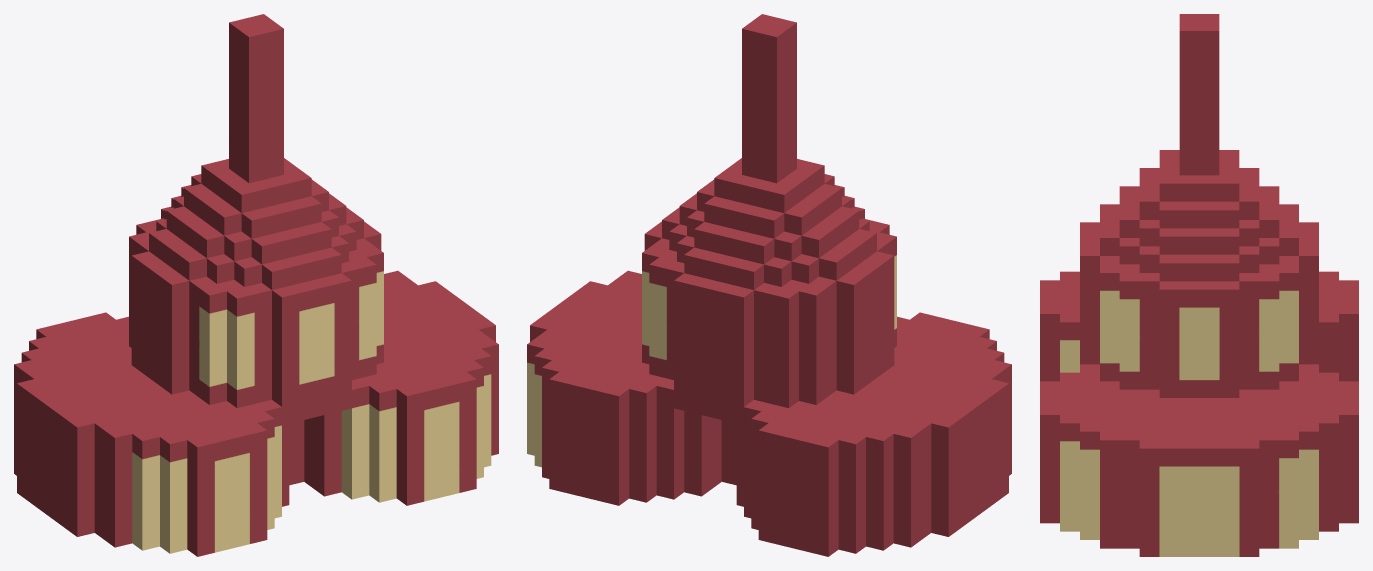
File: sixthModelRoof.fbx
3 renders of one model, left to right at view 1: azimuth 30°, elevation 25°; view 2: azimuth 150°, elevation 25°; view 3: azimuth 270°, elevation 25°, orthographic.
Visible parts, largest first — view 1: Torus; view 2: Torus; view 3: Torus.
Boxes of the visible parts, left/top/right/bottom form: Torus: left=14, top=14, right=498, bottom=556; Torus: left=527, top=14, right=1011, bottom=556; Torus: left=1040, top=14, right=1358, bottom=556.
Bounding box in the file's own units: 24 × 24 × 16.
1 material, 1 textured.
